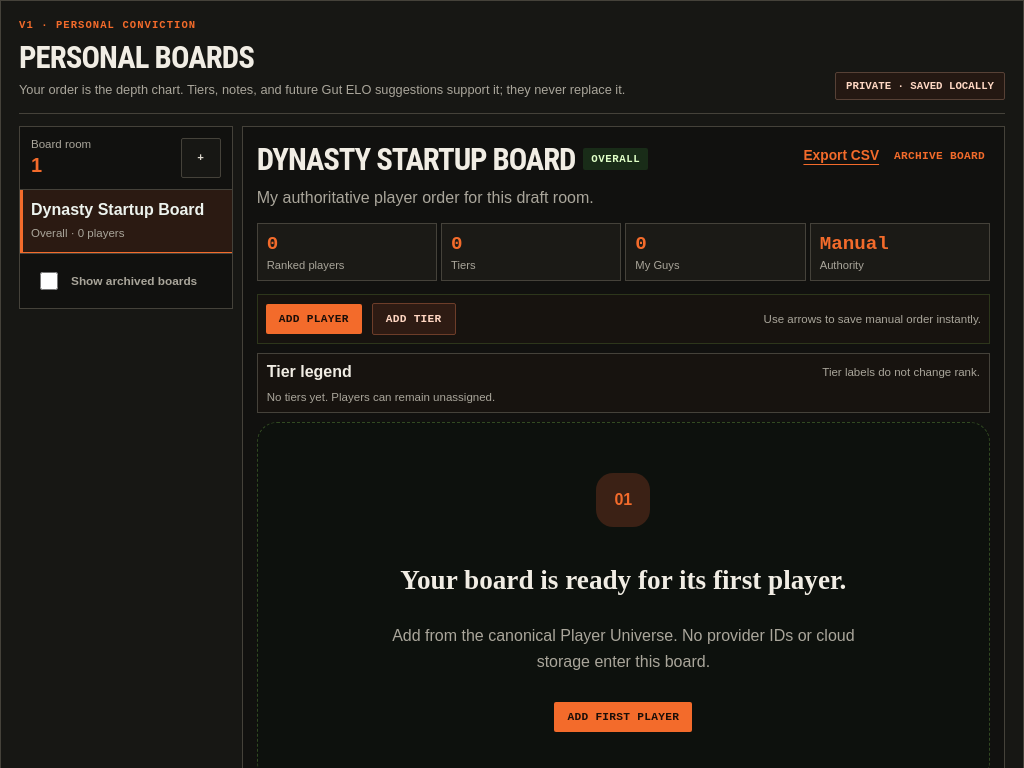
Test: BoardWorkspace › adds a canonical player to the end of the selected board
Expected: the heading "Dynasty Startup Board" is shown, [257,140,575,178]
Click the button "Add first player" at (623, 717), box [554,702,692,732]
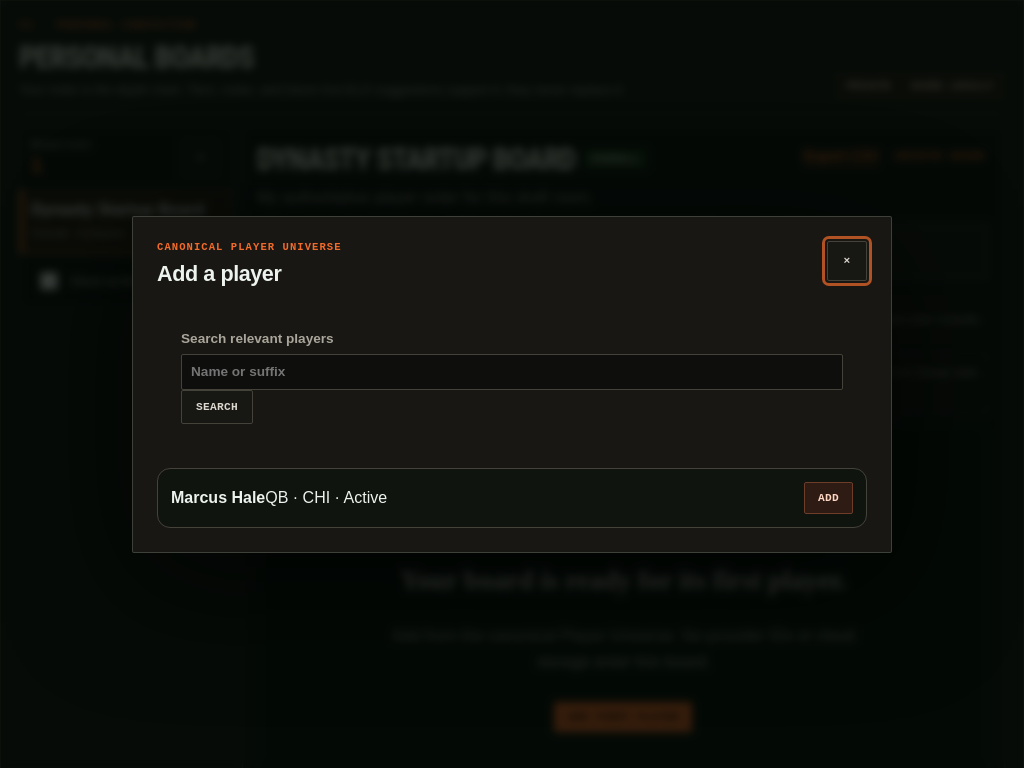
Click the button "Add" at (828, 498), box [804,482,853,514]
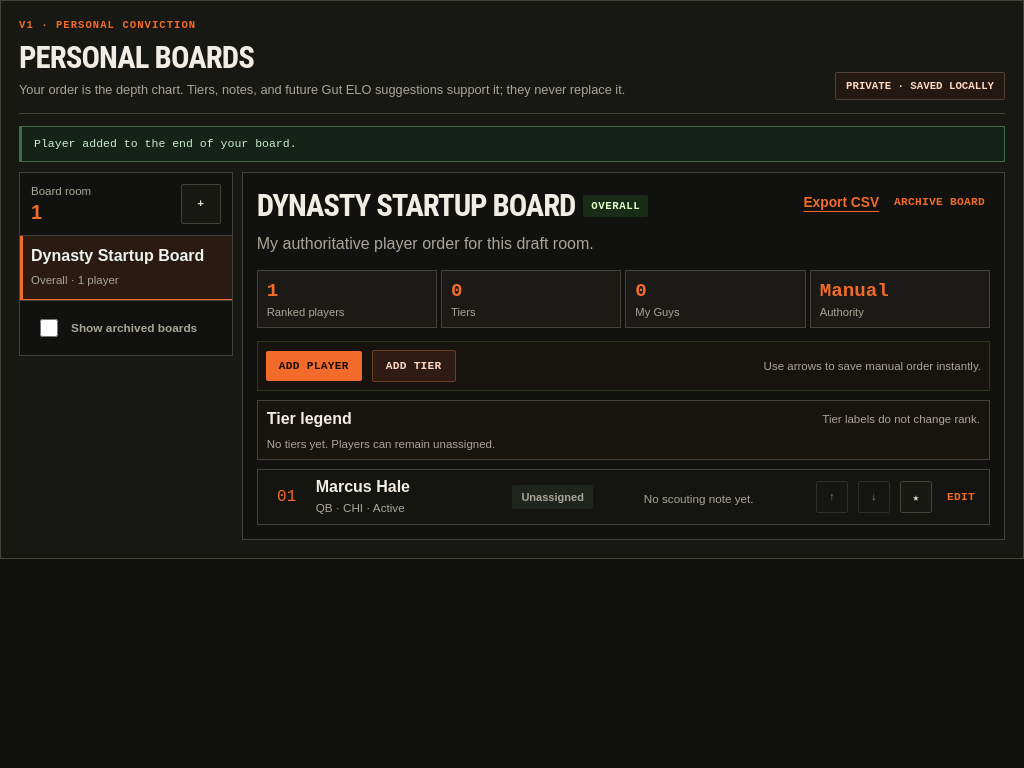
Now the text "Player added to the end of your board." is shown, box [19,126,1005,162]
Now the list named "Manual player order" shows "Marcus Hale", box [316,478,410,495]
